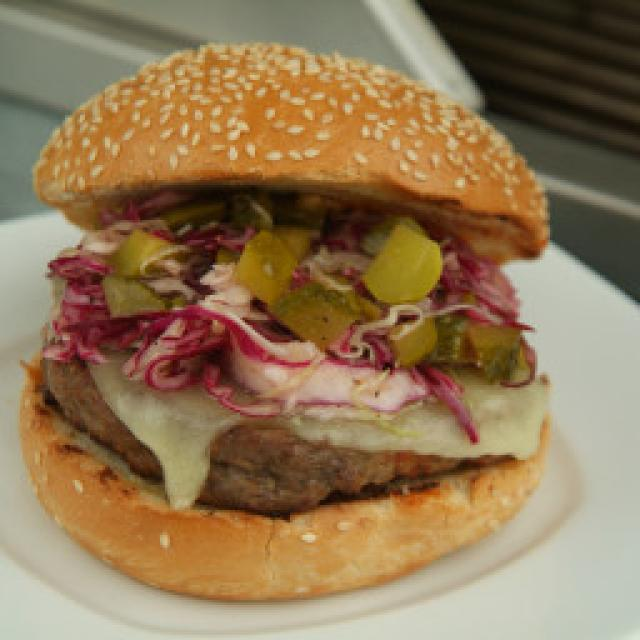burger: (20, 42, 552, 602)
